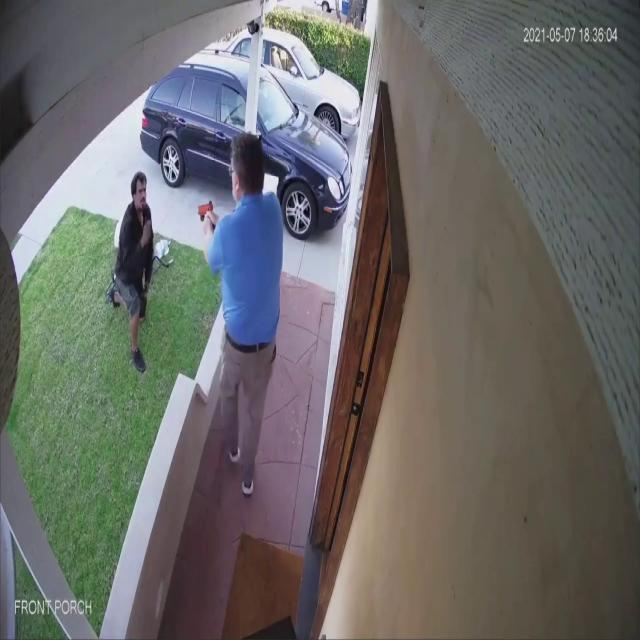weapon: (196, 202, 216, 230)
